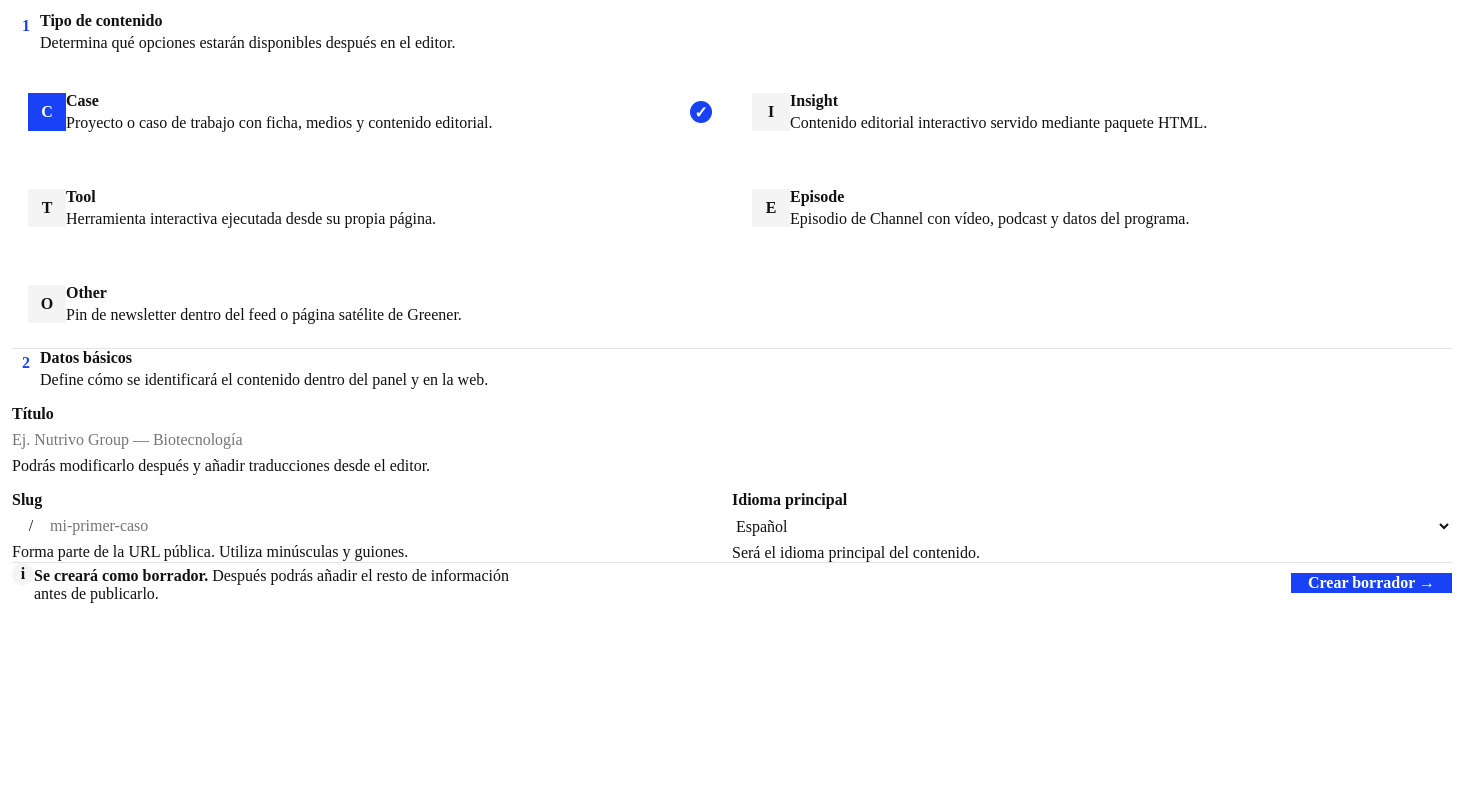
Test case: alta de contenido — Other (plan de other, §7.1) › al elegir newsletter desaparecen título, slug e idioma, y la frecuencia se queda
Click the radio button that starts with "Other" at (370, 304), box left=12, top=260, right=728, bottom=348
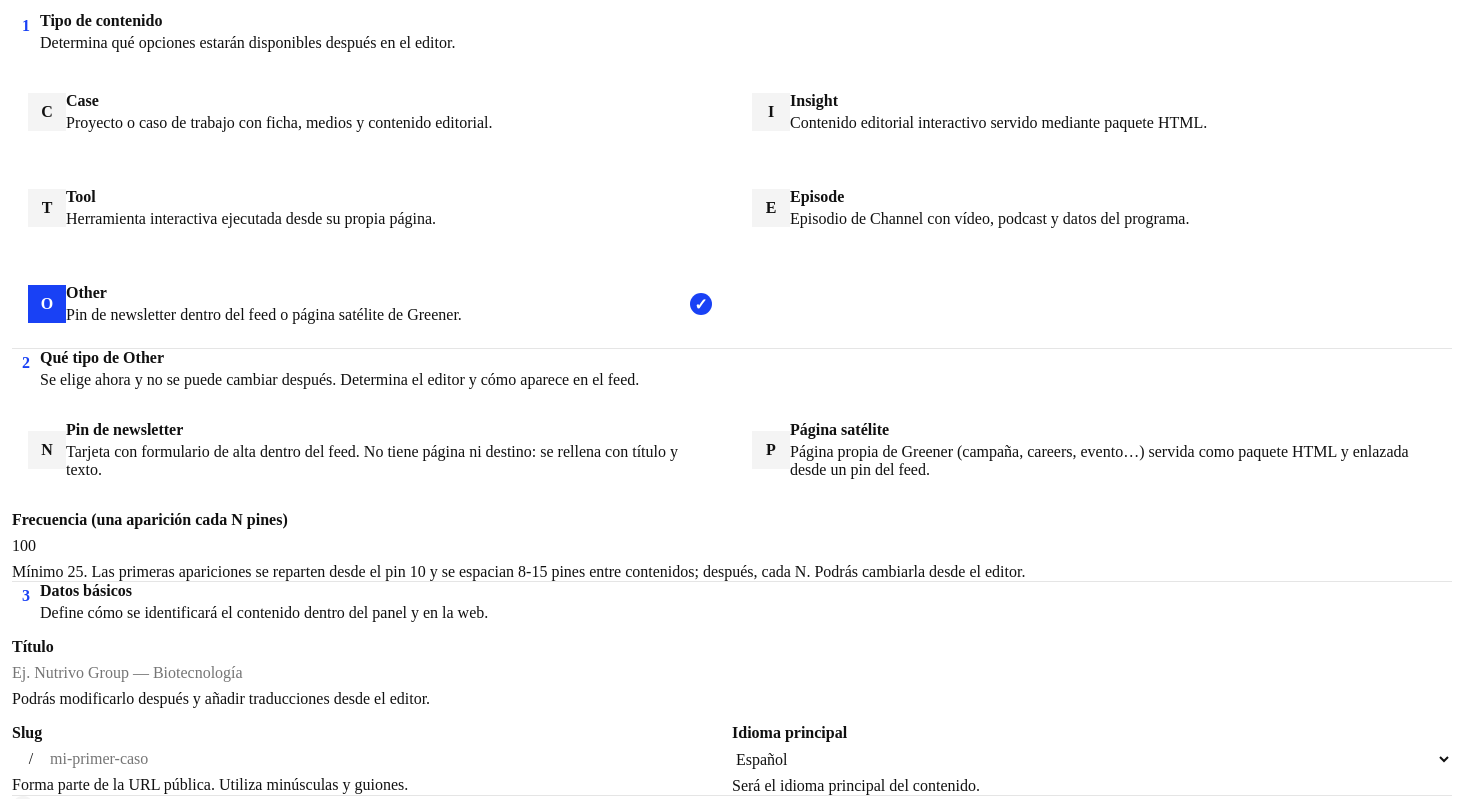
Click the radio button that starts with "Pin de newsletter" at (370, 450), box left=12, top=405, right=728, bottom=495
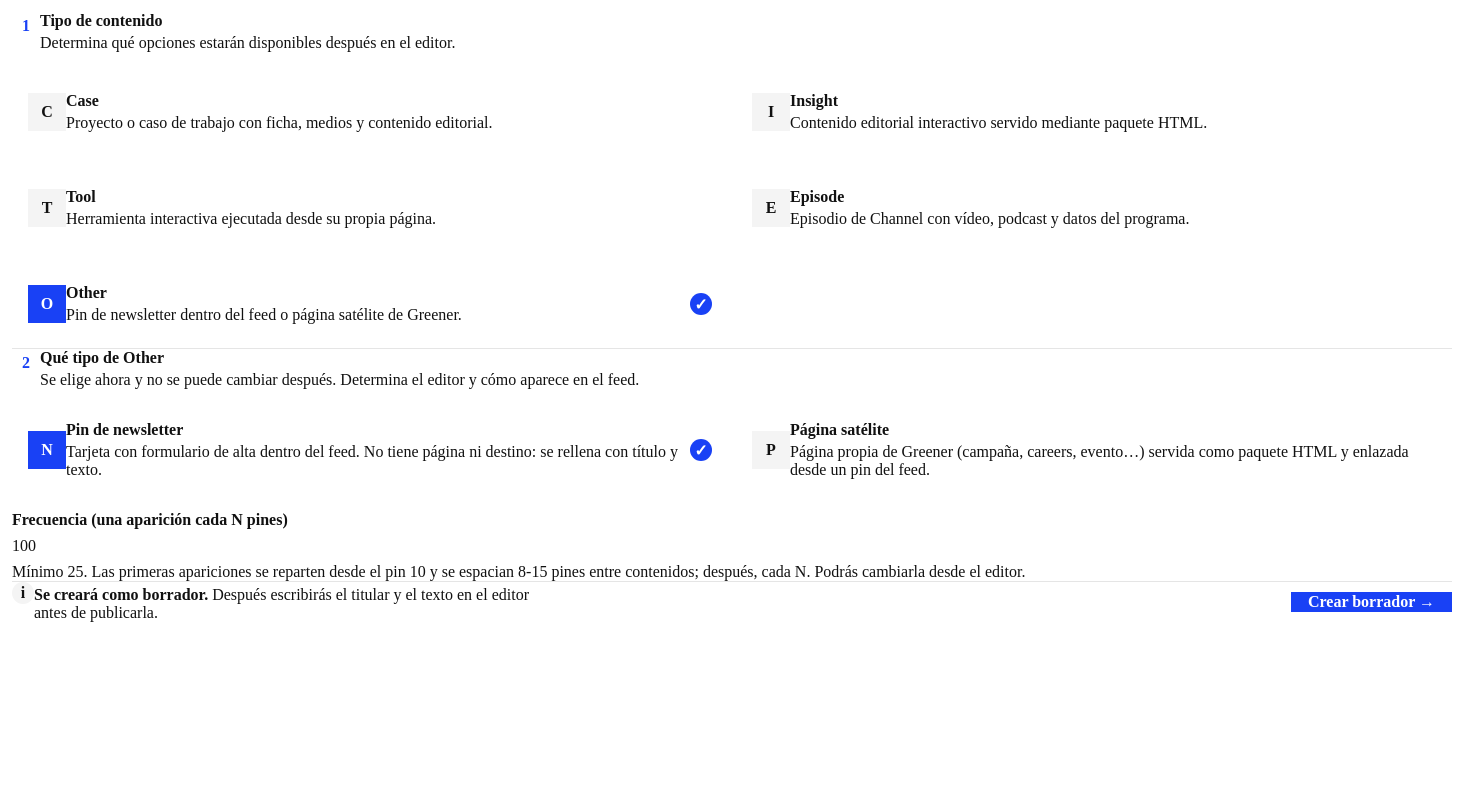
Expected: the heading "Datos básicos" is gone
Expected: the label labelled "Slug" is gone
Expected: the label labelled "Idioma principal" is gone
